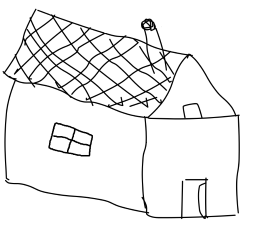big_house: (1, 2, 258, 227)
chimney: (135, 13, 180, 78)
closed_window: (44, 118, 98, 161)
door: (170, 171, 217, 222)
roof: (0, 6, 246, 123)
wall: (138, 111, 248, 222)
